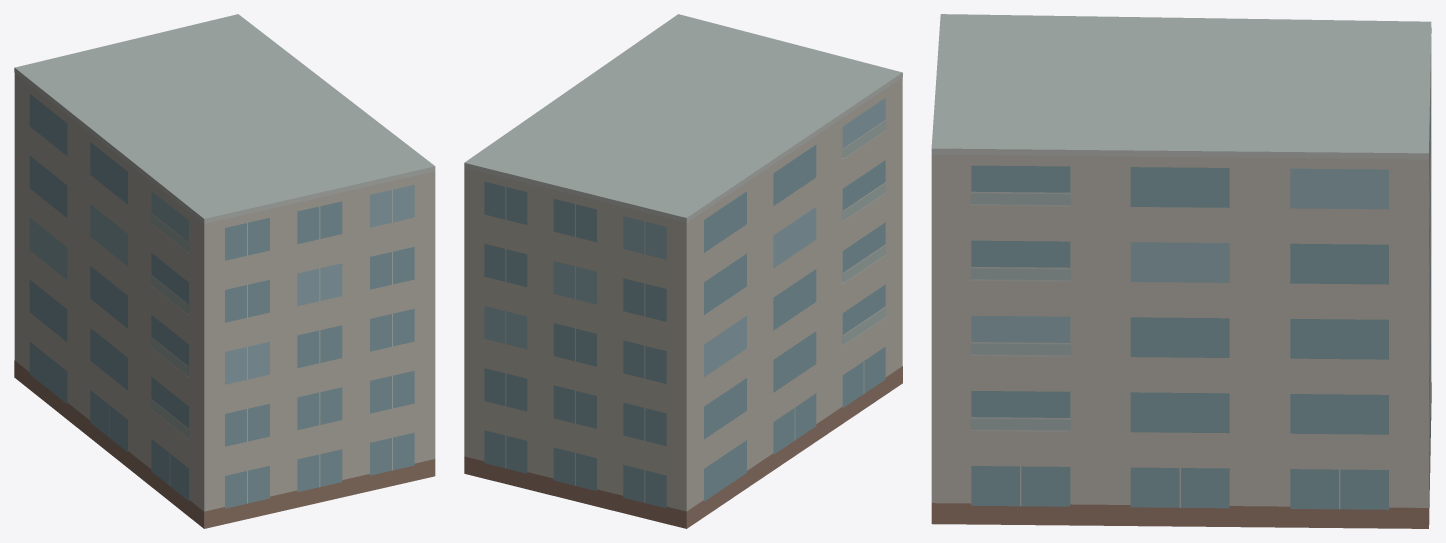
The model's file is survey-upis-32570146.glb.
The picture shows the model from 3 angles, left to right: view 1: azimuth 30°, elevation 25°; view 2: azimuth 150°, elevation 25°; view 3: azimuth 270°, elevation 25°; orthographic projection. The views are drawn at different scales.
Parts seen in each view (by area): view 1: survey-upis-32570146.tmp; view 2: survey-upis-32570146.tmp; view 3: survey-upis-32570146.tmp.
Part boxes in pixels (x1,y1,x2,y2): survey-upis-32570146.tmp: [14, 14, 435, 528]; survey-upis-32570146.tmp: [464, 14, 902, 528]; survey-upis-32570146.tmp: [931, 14, 1431, 528].
Bounding box in the file's own units: 12.1 × 15.2 × 18.35.
